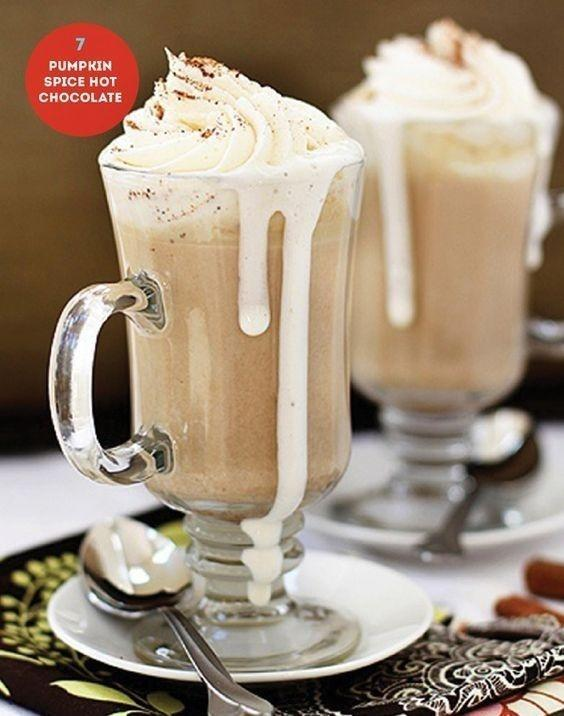glass-mug: (43, 92, 365, 677), (327, 14, 564, 681)
